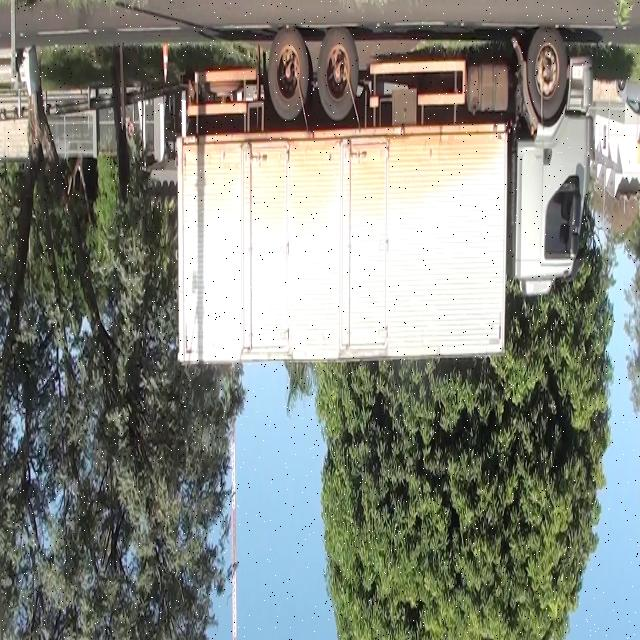-axle: (525, 27, 569, 121), (317, 29, 361, 120), (268, 27, 310, 121)
